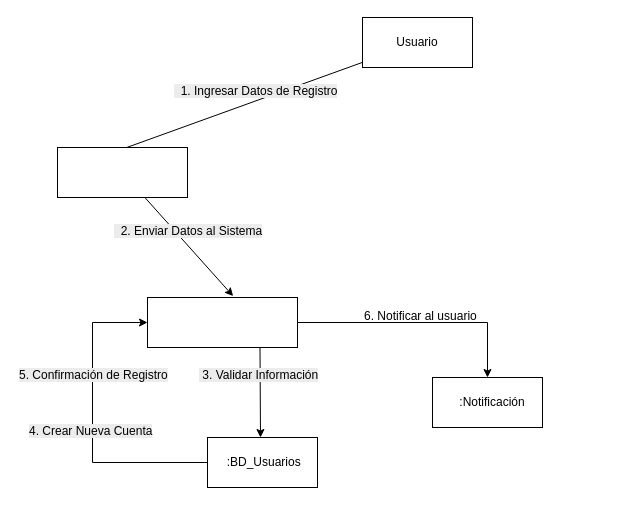
Image size: 628x505. Some labels were removed from this diagram. Each missing label, with the centre of its shape:
:UI_Registro: point (122, 172)
SistemaRegistro: point (222, 322)
